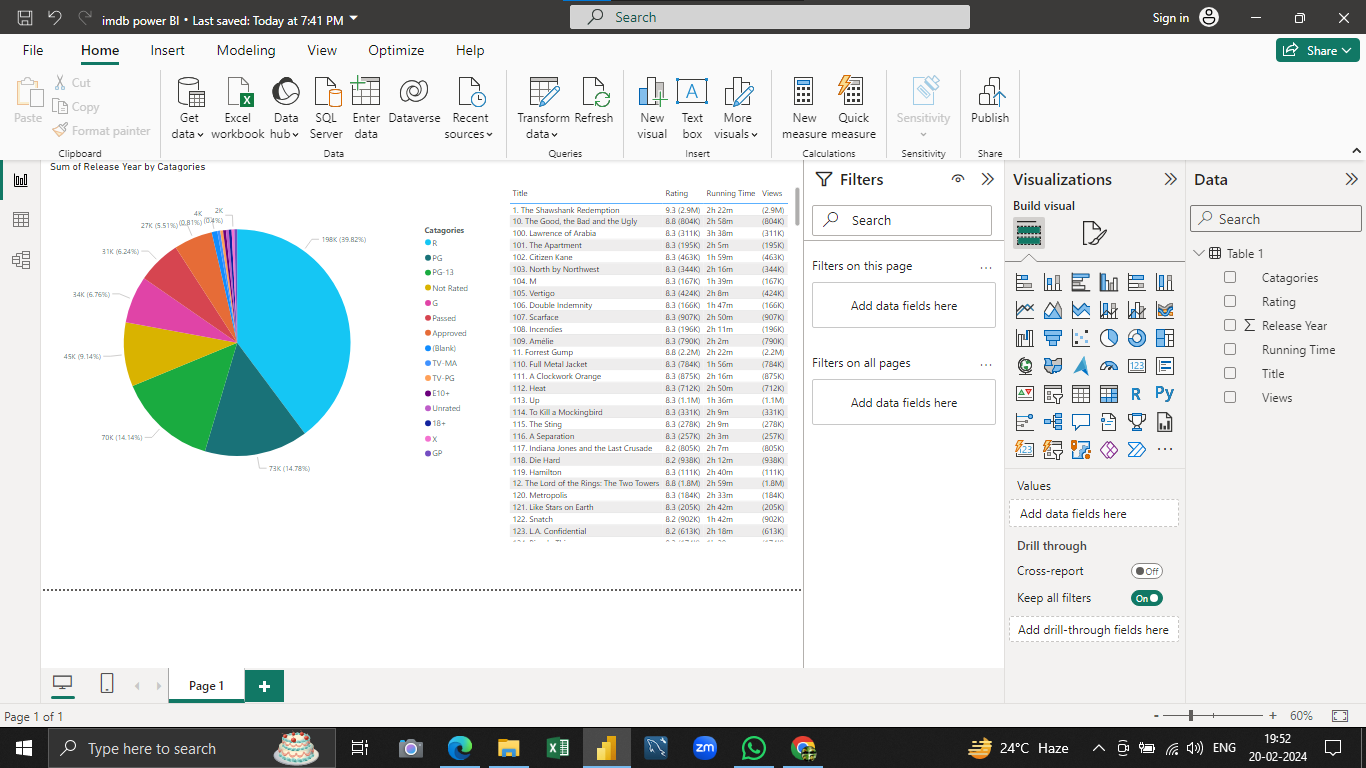

The dashboard page shown, as its layout file describes it:
{"tool":"powerbi","page":{"name":"Page 1","canvas":[1280,720],"ordinal":0},"visuals":[{"type":"pieChart","fields":{"Category":["Table 1.Catagories"],"Y":["Table 1.Release Year"]},"box":[10.1,0,724,594.6],"z":0},{"type":"tableEx","fields":{"Values":["Table 1.Title","Table 1.Rating","Table 1.Running Time","Table 1.Views"]},"box":[781.1,40.3,498.9,606.4],"z":1000}]}

Visuals, with their boxes on the page's 1280x720 design canvas (x1, y1, x2, y2). These are canvas units, not pixel positions in the 1366x768 screenshot, which may show the page scaled, cropped or inside an application window:
pieChart - Table 1.Catagories x Table 1.Release Year: [10, 0, 734, 595]
tableEx - Table 1.Title x Table 1.Rating: [781, 40, 1280, 647]
